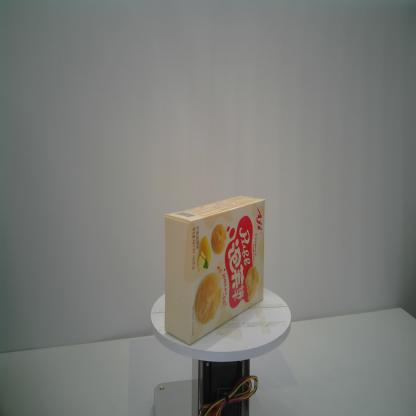Dessert: (165, 195, 265, 346)
